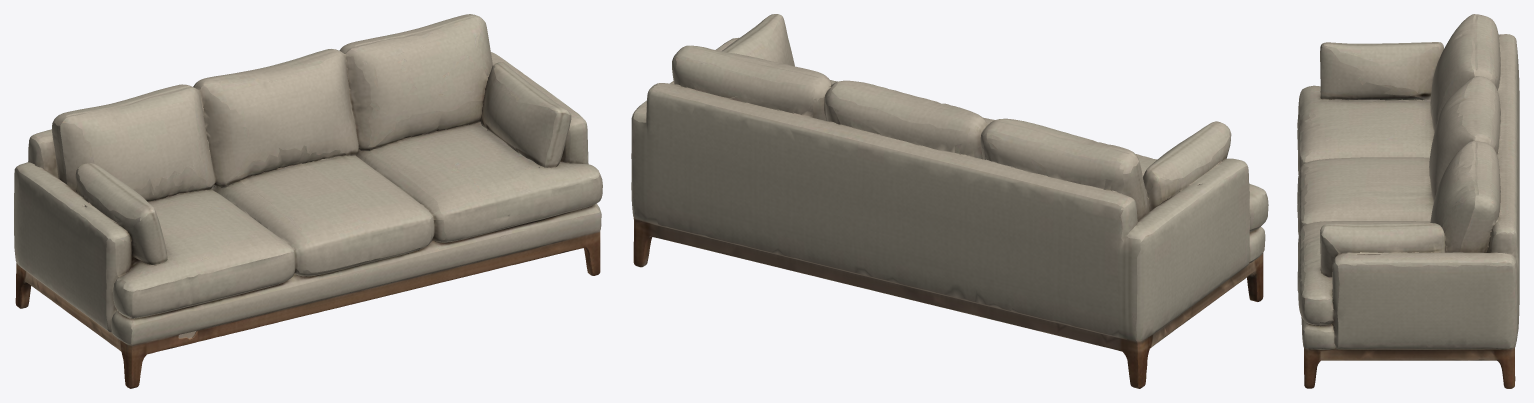
Rendered from L_SOFA_3.glb.
3 renders of one model, left to right at view 1: azimuth 30°, elevation 25°; view 2: azimuth 150°, elevation 25°; view 3: azimuth 270°, elevation 25°, orthographic. The views are drawn at different scales.
Visible parts, largest first — view 1: world; view 2: world; view 3: world.
Part boxes in pixels (x1,y1,x2,y2): world: [14, 14, 602, 388]; world: [631, 14, 1268, 388]; world: [1297, 14, 1519, 388].
Bounding box in the file's own units: 2.2 × 0.8559 × 0.9566.
1 material, 1 textured.
